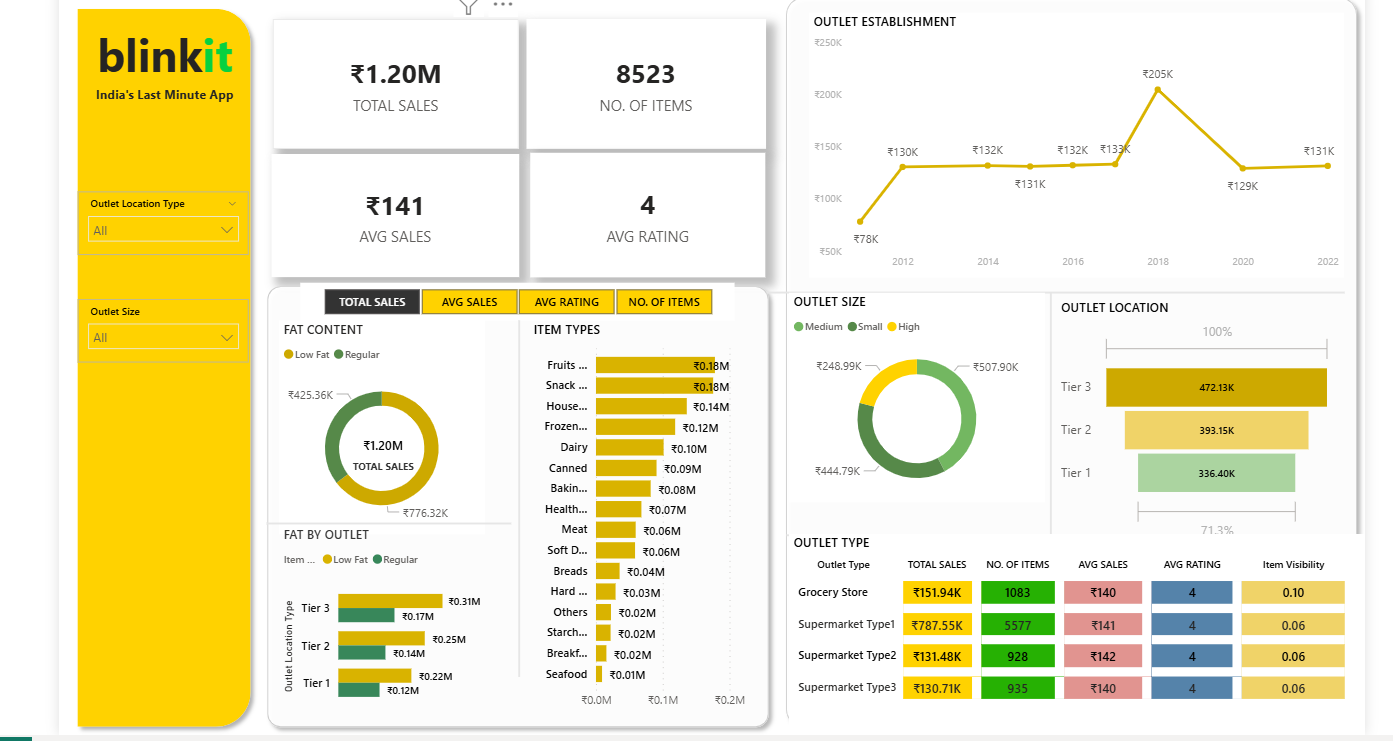

Layout of this report page (visuals, bound fields, positions):
{"tool":"powerbi","page":{"name":"Page 1","canvas":[1400,800],"ordinal":0},"visuals":[{"type":"shape","box":[10.7,12.1,203.7,787.9],"z":0},{"type":"textbox","box":[30,31.5,168.1,85.5],"z":1000},{"type":"textbox","box":[30,99.1,168.1,30],"z":2000},{"type":"card","fields":{"Values":["BlinkIT Grocery Data.Total Sales"]},"box":[229.6,31.5,264.2,139.6],"z":3000},{"type":"card","fields":{"Values":["BlinkIT Grocery Data.Average Sales"]},"box":[228.1,177.1,265.7,132.1],"z":4000},{"type":"card","fields":{"Values":["BlinkIT Grocery Data.No. of Items"]},"box":[501.3,31.5,256.6,139.6],"z":5000},{"type":"card","fields":{"Values":["BlinkIT Grocery Data.Avg Rating"]},"box":[505.8,175.6,252.1,133.6],"z":6000},{"type":"shape","box":[214.6,309.2,555.3,490.8],"z":7000},{"type":"donutChart","title":"FAT CONTENT","fields":{"Y":["BlinkIT Grocery Data.TOTAL SALES"],"Category":["BlinkIT Grocery Data.Item Fat Content"]},"box":[235.6,355.7,220.6,229.6],"z":8000},{"type":"slicer","fields":{"Values":["Metrics.Metrics"]},"box":[258.1,315.2,465.3,40.5],"z":9000},{"type":"card","fields":{"Values":["BlinkIT Grocery Data.TOTAL SALES"]},"box":[295.7,469.8,103.6,55.5],"z":10000},{"type":"clusteredBarChart","title":"FAT BY OUTLET","fields":{"Y":["BlinkIT Grocery Data.TOTAL SALES"],"Category":["BlinkIT Grocery Data.Outlet Location Type"],"Series":["BlinkIT Grocery Data.Item Fat Content"]},"box":[235.8,574.9,221.1,206.4],"z":11000},{"type":"shape","box":[484.8,355.7,16.5,382.7],"z":12000},{"type":"shape","box":[222.1,565.8,262.7,15],"z":13000},{"type":"barChart","title":"ITEM TYPES","fields":{"Y":["BlinkIT Grocery Data.TOTAL SALES"],"Category":["BlinkIT Grocery Data.Item Type"]},"box":[503.9,355.1,237.2,426.1],"z":14000},{"type":"shape","box":[770.5,0,629.8,800],"z":15000},{"type":"lineChart","title":"OUTLET ESTABLISHMENT","fields":{"Category":["BlinkIT Grocery Data.Outlet Establishment Year"],"Y":["BlinkIT Grocery Data.TOTAL SALES"]},"box":[804.5,25.5,573.3,283.7],"z":16000},{"type":"shape","box":[757.9,315.2,619.9,21],"z":17000},{"type":"donutChart","title":"OUTLET SIZE","fields":{"Y":["BlinkIT Grocery Data.TOTAL SALES"],"Category":["BlinkIT Grocery Data.Outlet Size"]},"box":[781.9,325.7,274.7,225.1],"z":18000},{"type":"funnel","title":"OUTLET LOCATION","fields":{"Category":["BlinkIT Grocery Data.Outlet Location Type"],"Y":["Sum(BlinkIT Grocery Data.Sales)"]},"box":[1069.3,332.3,300.2,264],"z":18001},{"type":"shape","box":[779.9,574.9,620.4,21.4],"z":18002},{"type":"shape","box":[1057.3,325.6,12.1,294.8],"z":18003},{"type":"pivotTable","title":"OUTLET TYPE","fields":{"Rows":["BlinkIT Grocery Data.Outlet Type"],"Values":["BlinkIT Grocery Data.TOTAL SALES","BlinkIT Grocery Data.NO. OF ITEMS","BlinkIT Grocery Data.AVG SALES","BlinkIT Grocery Data.AVG RATING","Avg(BlinkIT Grocery Data.Item Visibility)"]},"box":[782.6,584.3,617.8,215.7],"z":18004},{"type":"slicer","fields":{"Values":["BlinkIT Grocery Data.Outlet Location Type"]},"box":[20.1,217.1,183.6,68.3],"z":18005},{"type":"slicer","fields":{"Values":["BlinkIT Grocery Data.Outlet Size"]},"box":[20.1,332.3,183.6,68.3],"z":18006}]}

Visuals, with their boxes on the page's 1400x800 design canvas (x1, y1, x2, y2). These are canvas units, not pixel positions in the 1393x741 screenshot, which may show the page scaled, cropped or inside an application window:
shape: <box>11,12,214,800</box>
textbox: <box>30,32,198,117</box>
textbox: <box>30,99,198,129</box>
card - BlinkIT Grocery Data.Total Sales: <box>230,32,494,171</box>
card - BlinkIT Grocery Data.Average Sales: <box>228,177,494,309</box>
card - BlinkIT Grocery Data.No. of Items: <box>501,32,758,171</box>
card - BlinkIT Grocery Data.Avg Rating: <box>506,176,758,309</box>
shape: <box>215,309,770,800</box>
"FAT CONTENT" donutChart: <box>236,356,456,585</box>
slicer - Metrics.Metrics: <box>258,315,723,356</box>
card - BlinkIT Grocery Data.TOTAL SALES: <box>296,470,399,525</box>
"FAT BY OUTLET" clusteredBarChart: <box>236,575,457,781</box>
shape: <box>485,356,501,738</box>
shape: <box>222,566,485,581</box>
"ITEM TYPES" barChart: <box>504,355,741,781</box>
shape: <box>770,0,1400,800</box>
"OUTLET ESTABLISHMENT" lineChart: <box>804,26,1378,309</box>
shape: <box>758,315,1378,336</box>
"OUTLET SIZE" donutChart: <box>782,326,1057,551</box>
"OUTLET LOCATION" funnel: <box>1069,332,1370,596</box>
shape: <box>780,575,1400,596</box>
shape: <box>1057,326,1069,620</box>
"OUTLET TYPE" pivotTable: <box>783,584,1400,800</box>
slicer - BlinkIT Grocery Data.Outlet Location Type: <box>20,217,204,285</box>
slicer - BlinkIT Grocery Data.Outlet Size: <box>20,332,204,401</box>
